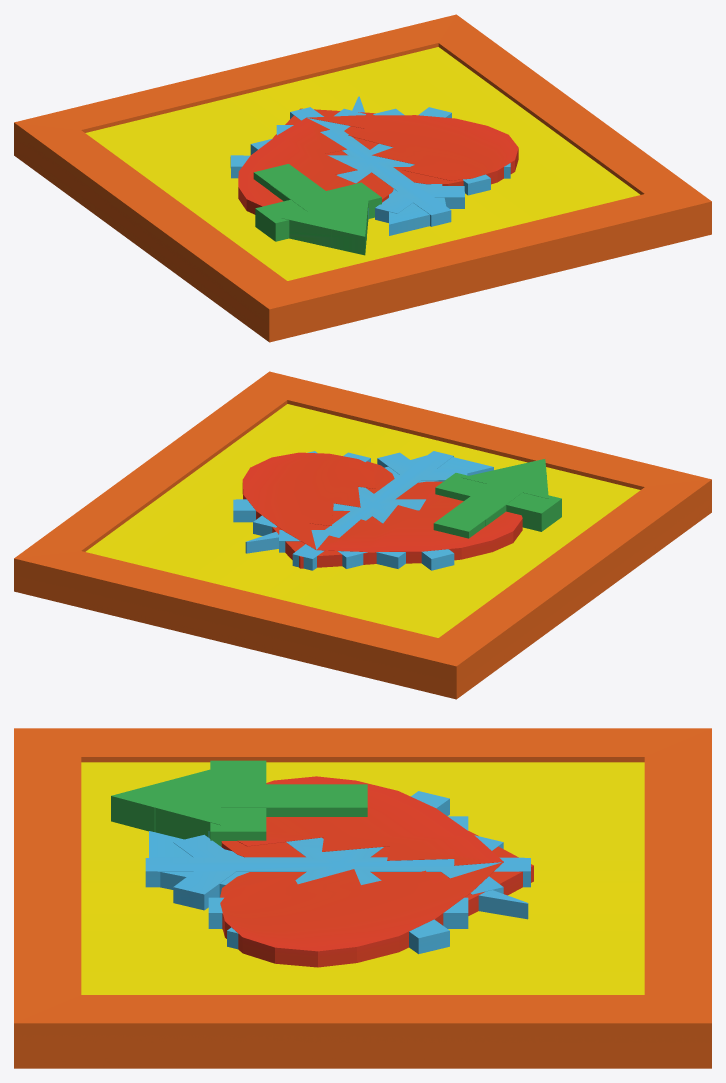
File: Tile.fbx
The picture shows the model from 3 angles, top to bottom: view 1: azimuth 30°, elevation 25°; view 2: azimuth 150°, elevation 25°; view 3: azimuth 270°, elevation 25°; orthographic projection. The views are drawn at different scales.
Parts seen in each view (by area): view 1: Tile, BrokenTile, BrokenHeart, Flake, Arrow, Plus, Health, Energy; view 2: Tile, BrokenTile, BrokenHeart, Flake, Arrow, Plus, Health, Energy; view 3: Tile, BrokenTile, BrokenHeart, Flake, Arrow, Plus, Health, Energy.
Part boxes in pixels (x1,y1,x2,y2): Tile: (14, 14, 711, 342); BrokenTile: (14, 47, 711, 342); BrokenHeart: (238, 115, 518, 214); Flake: (230, 107, 510, 226); Arrow: (253, 164, 368, 255); Plus: (255, 182, 381, 247); Health: (272, 108, 487, 202); Energy: (352, 96, 445, 235); Tile: (14, 371, 711, 699); BrokenTile: (14, 404, 711, 696); BrokenHeart: (242, 452, 522, 563); Flake: (233, 451, 467, 570); Arrow: (433, 459, 548, 538); Plus: (435, 473, 561, 531); Health: (272, 461, 442, 568); Energy: (245, 455, 493, 553); Tile: (14, 728, 711, 1068); BrokenTile: (14, 762, 711, 1068); BrokenHeart: (220, 776, 503, 967); Flake: (145, 791, 530, 954); Arrow: (111, 766, 367, 839); Plus: (154, 760, 321, 846); Health: (220, 831, 533, 929); Energy: (149, 831, 528, 919).
Bounding box in the file's own units: 280 × 28.85 × 280.
